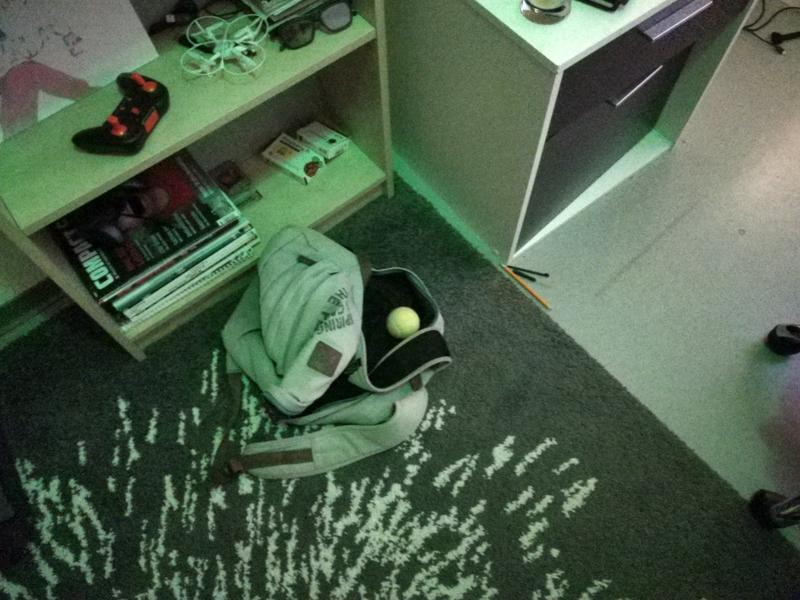Tennisball: (386, 304, 421, 339)
